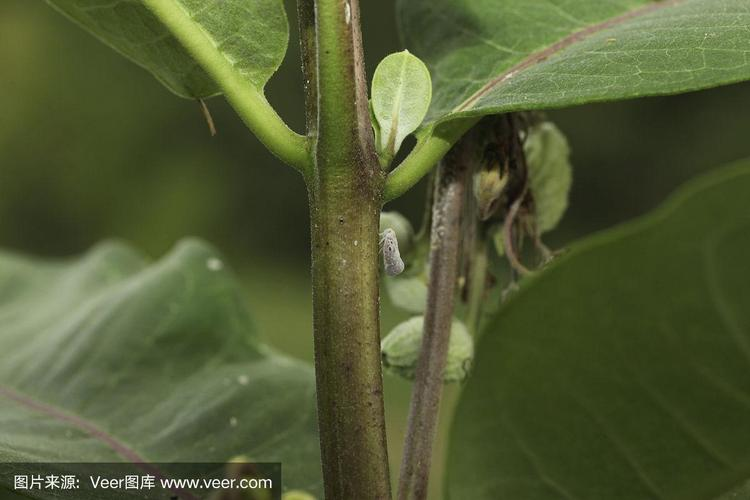Delphacidae: (377, 228, 404, 277)
